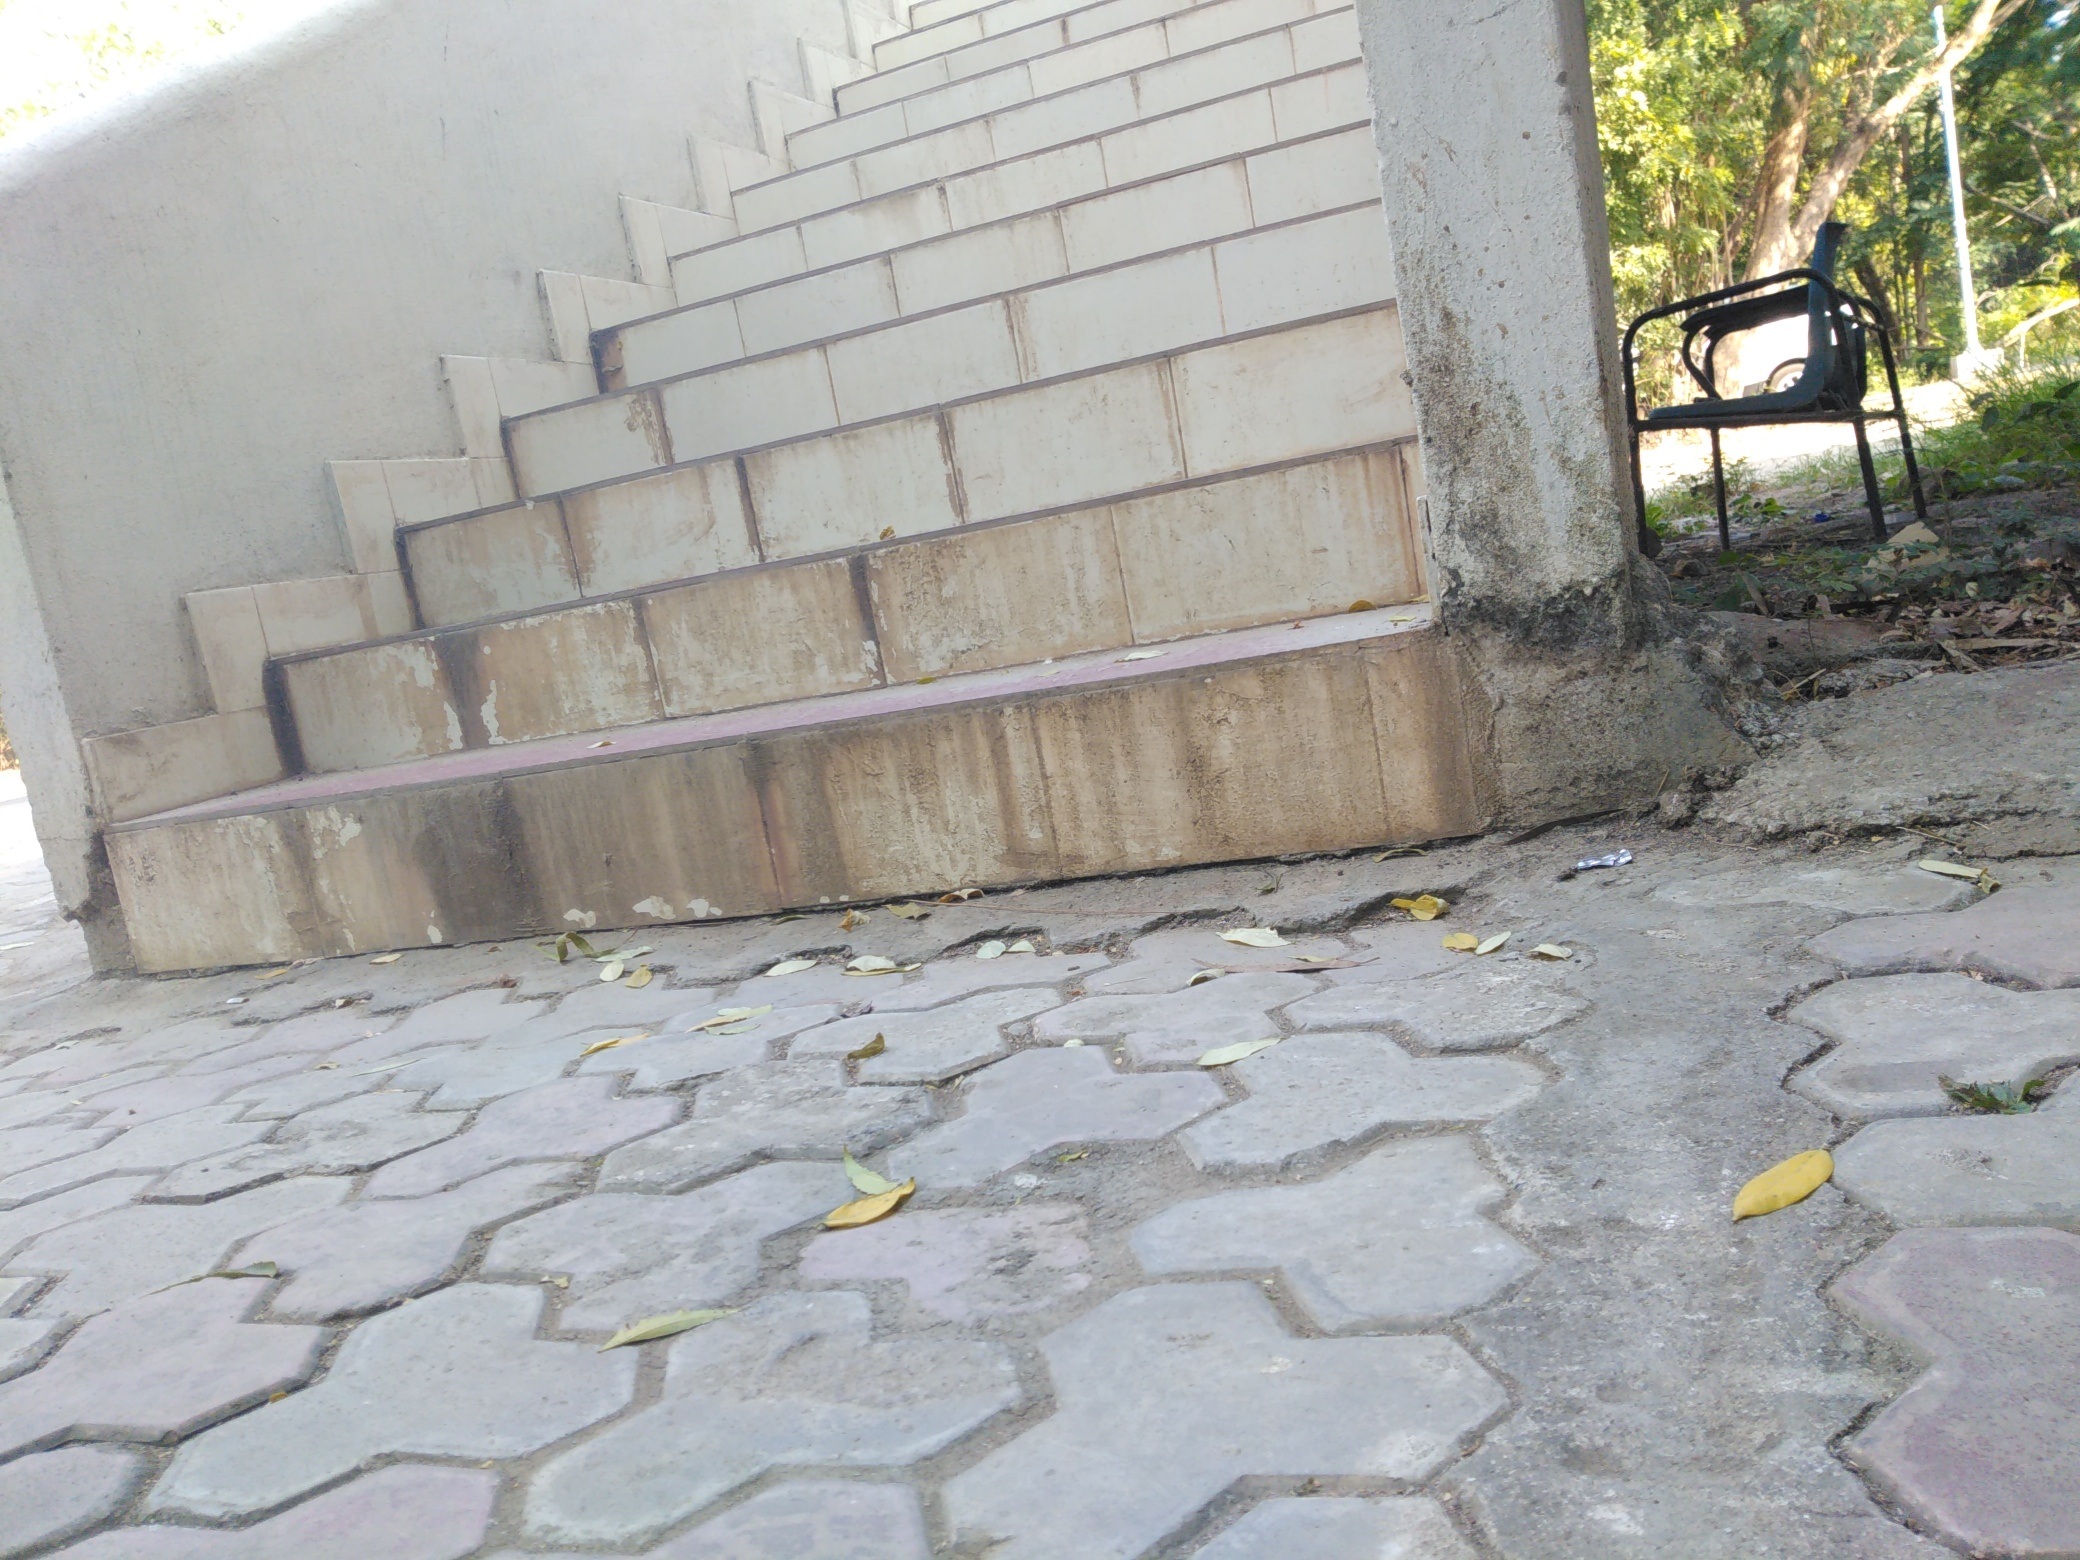stairs_up: (105, 11, 1369, 1023)
